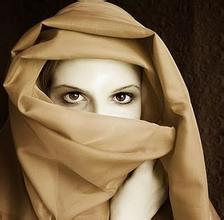OK: (54, 70, 145, 151)
